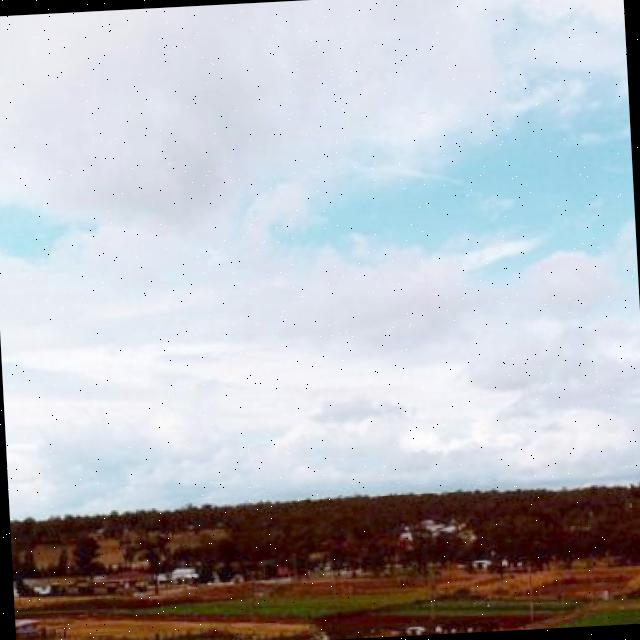Sc: (1, 16, 640, 468)
